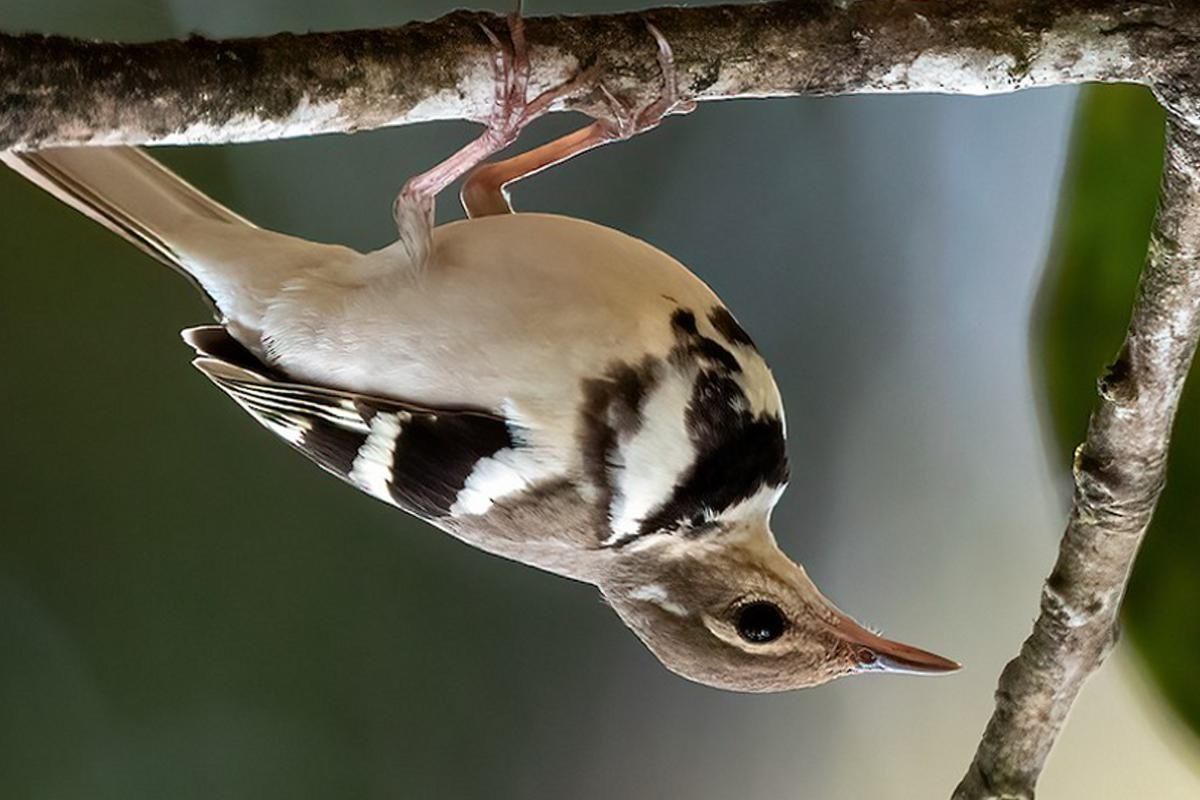wagtail: (141, 148, 929, 706)
